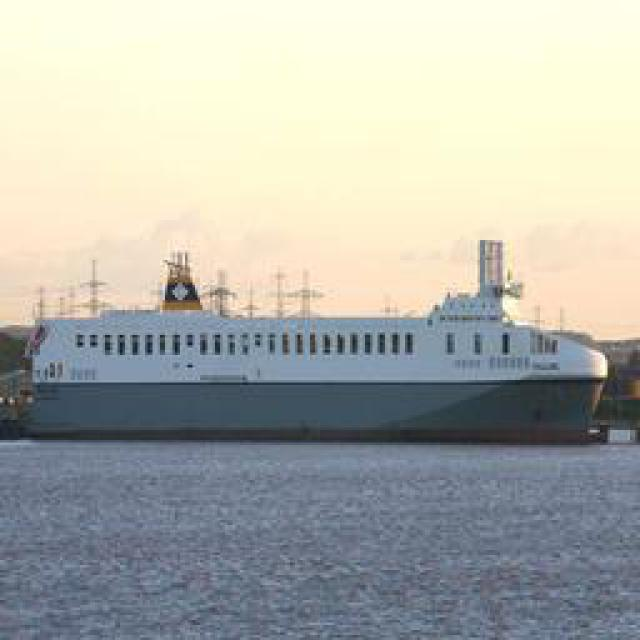Ship: (16, 232, 621, 442)
